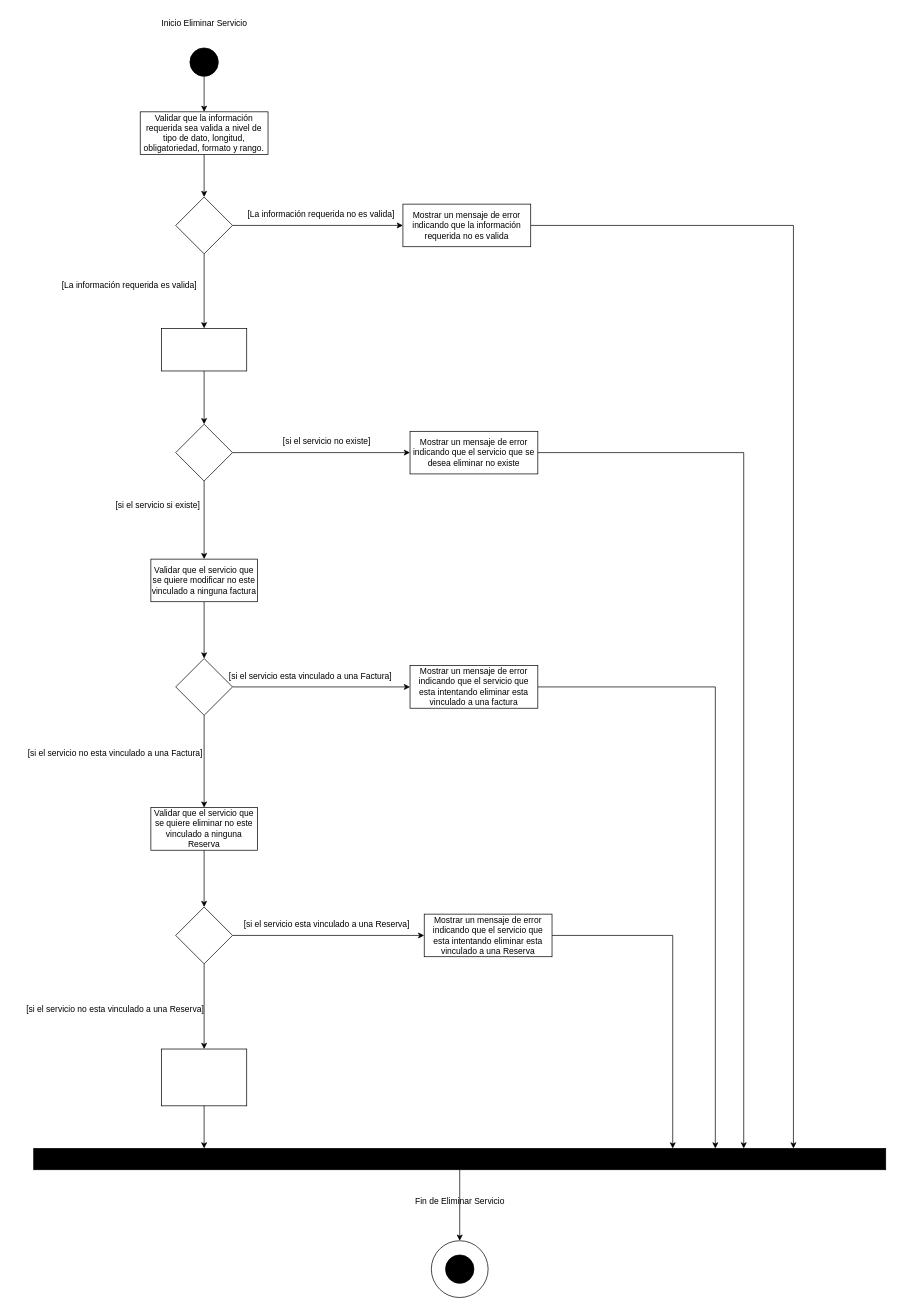
Some shapes in this 898 by 1310 pixel diagram are drawn without their labels. The shapes that lost their labels are listed below. From the top down, each one's centre as x and y in pixels, then its label:
(204,349): Validar si el servicio que se quiere eliminar existe
(204,1077): Mostrar mensaje de exito indicando que el servicio se elimino exitosamente
